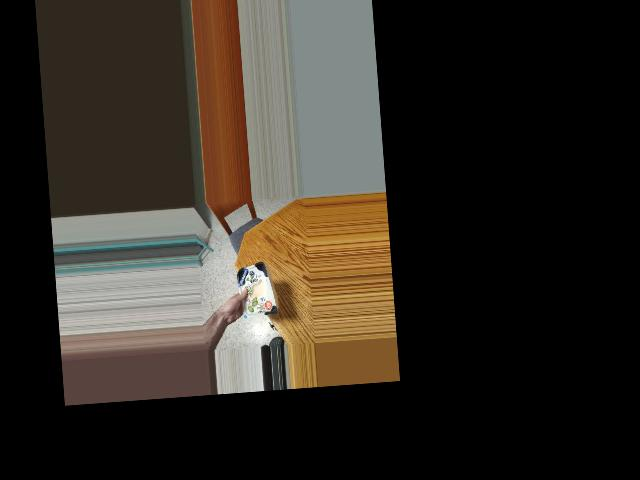cheese: (234, 261, 278, 318)
